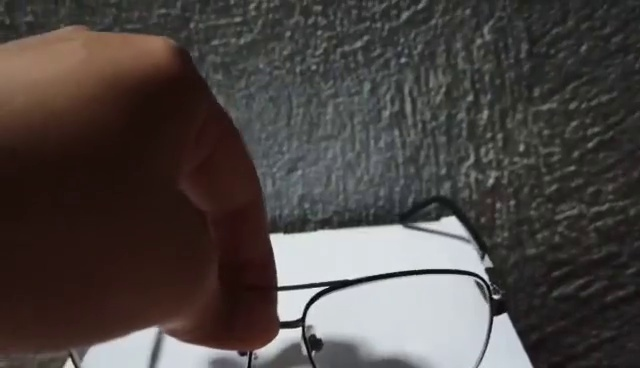glasses: (61, 216, 508, 368)
hand: (1, 28, 275, 355)
